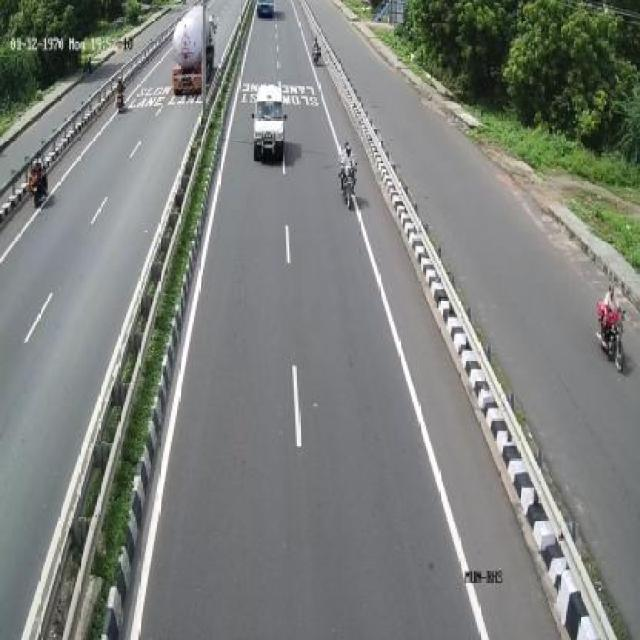car: (251, 82, 289, 166)
